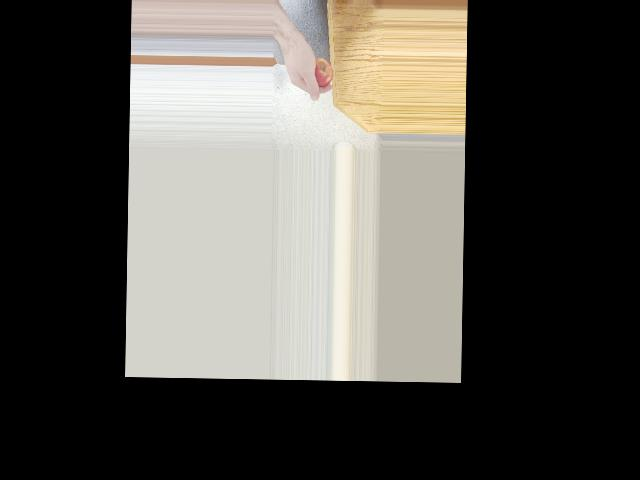apple: (305, 57, 333, 88)
